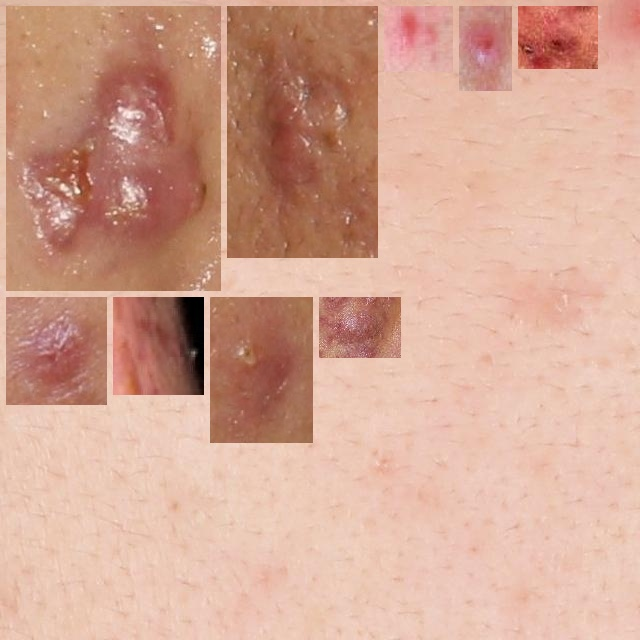nodule: (14, 14, 213, 283), (235, 14, 370, 250), (218, 305, 305, 435), (14, 305, 99, 397), (121, 305, 196, 387), (526, 14, 590, 61), (327, 305, 393, 350), (392, 14, 445, 64), (467, 14, 504, 83)
